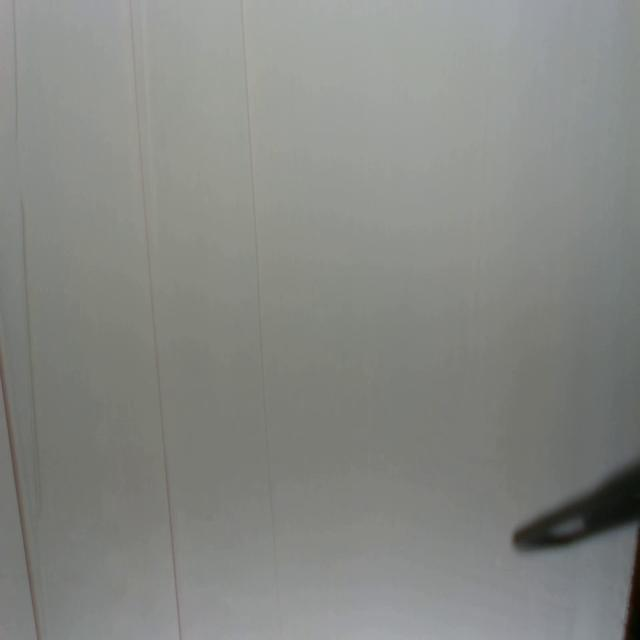crease: (126, 0, 184, 640), (239, 0, 283, 640), (11, 0, 38, 461), (0, 364, 41, 640)
